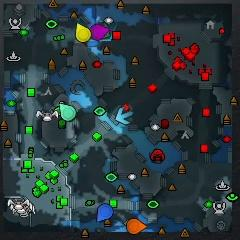p1: (97, 204, 113, 221)
p2: (59, 103, 76, 121)
p3: (89, 23, 110, 41)
p4: (75, 23, 91, 43)
p5: (126, 218, 147, 235)
x3: (116, 108, 133, 125)
x4: (101, 22, 112, 39)
